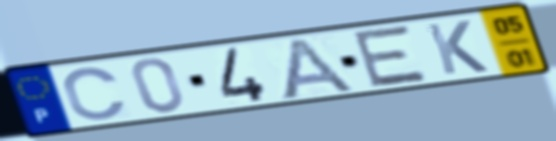0: (128, 56, 187, 115)
4: (219, 45, 269, 104)
A: (277, 35, 359, 102)
C: (60, 65, 130, 122)
E: (351, 23, 432, 90)
K: (423, 18, 492, 77)
